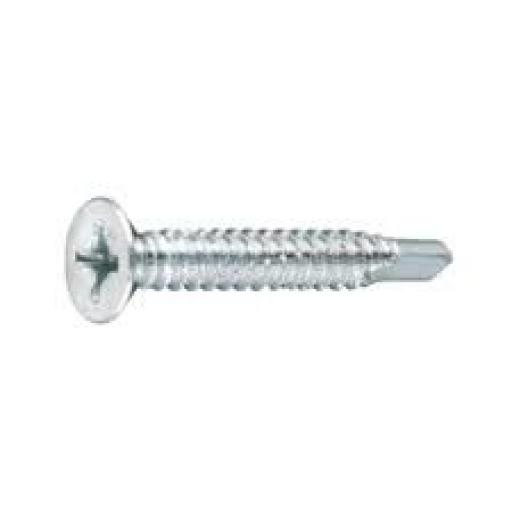Phillips: (67, 194, 139, 332)
